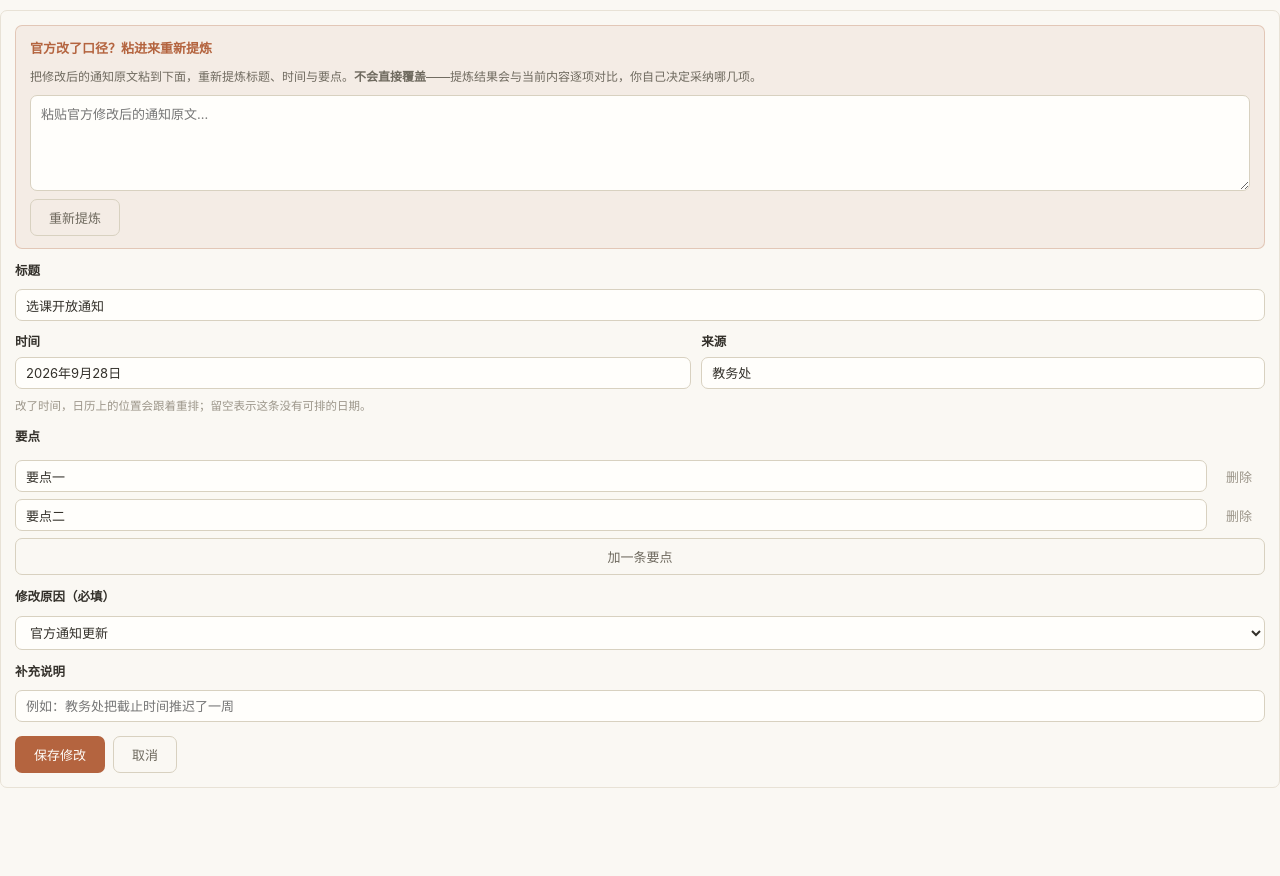
CardEditForm 官方改口径：粘贴原文重新提炼 › 粘贴后点「重新提炼」，用粘贴的原文去提炼并给出逐项对比
Type "【教务处】截止时间推迟到10月22日。" into the text box named "官方修改后的原文". click: (640, 143)
box: left=30, top=95, right=1250, bottom=191
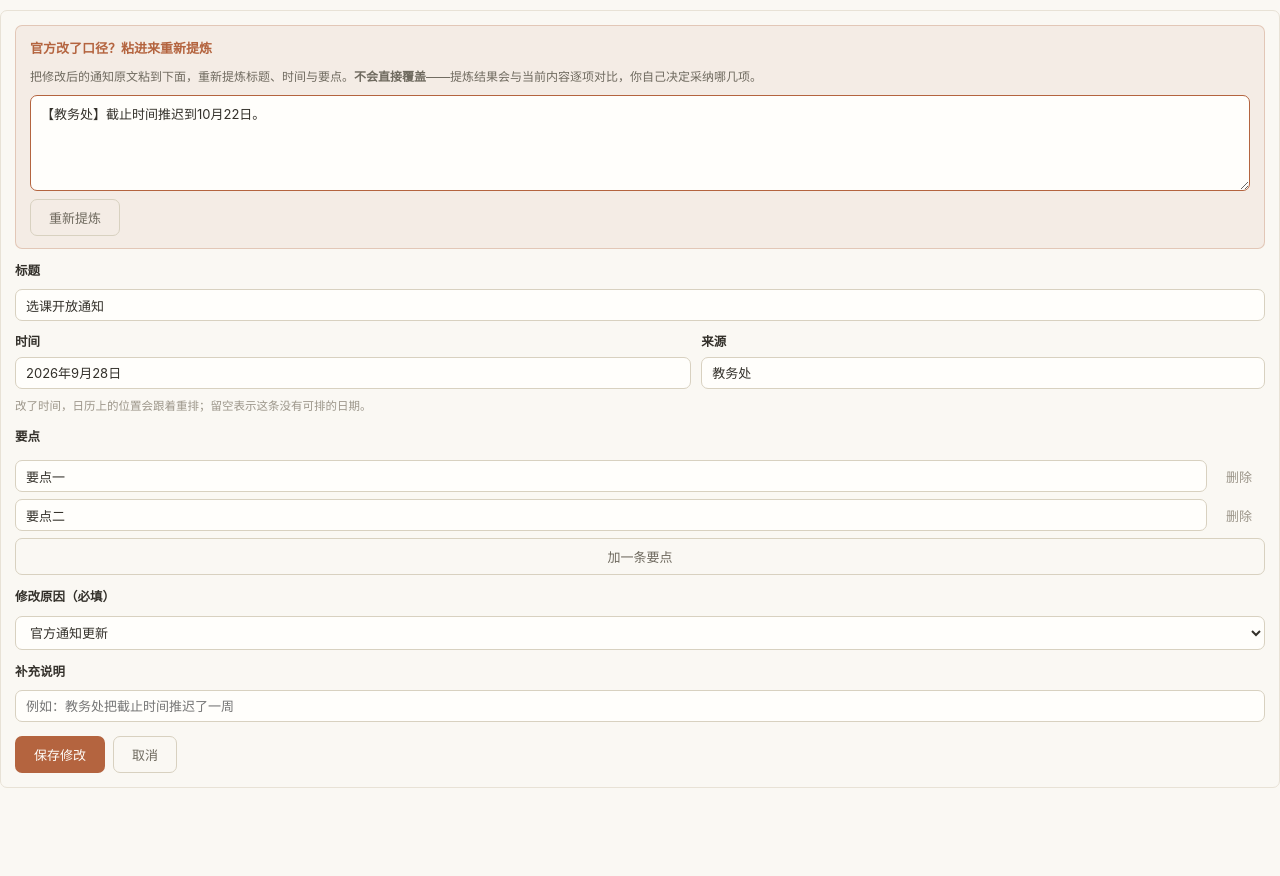
Click the button "重新提炼". click: (75, 217)
box: left=30, top=199, right=120, bottom=236
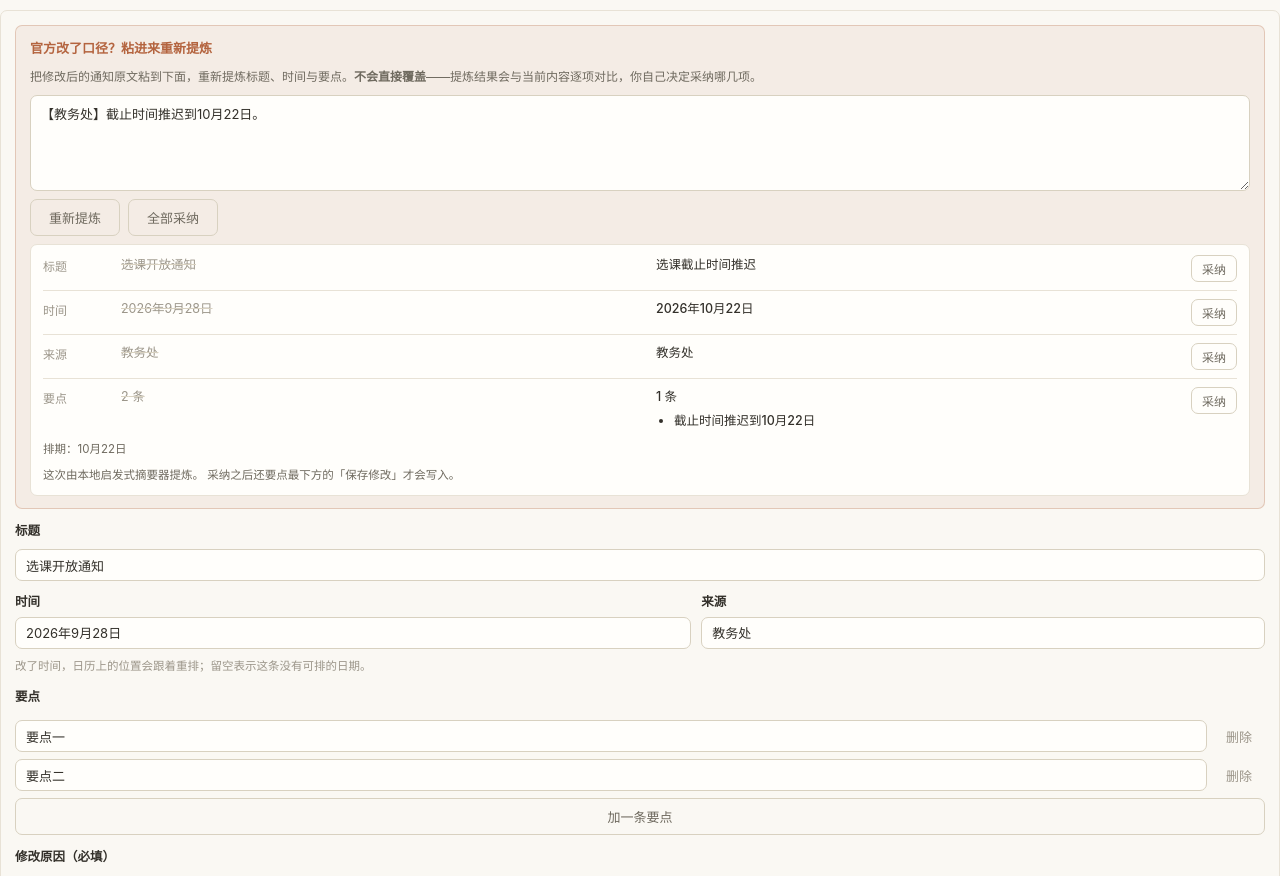
Expected: the text "选课开放通知" is shown, left=121, top=257, right=196, bottom=272
Expected: the text "选课截止时间推迟" is shown, left=656, top=257, right=756, bottom=272
Expected: the text "2026年10月22日" is shown, left=656, top=301, right=754, bottom=316
